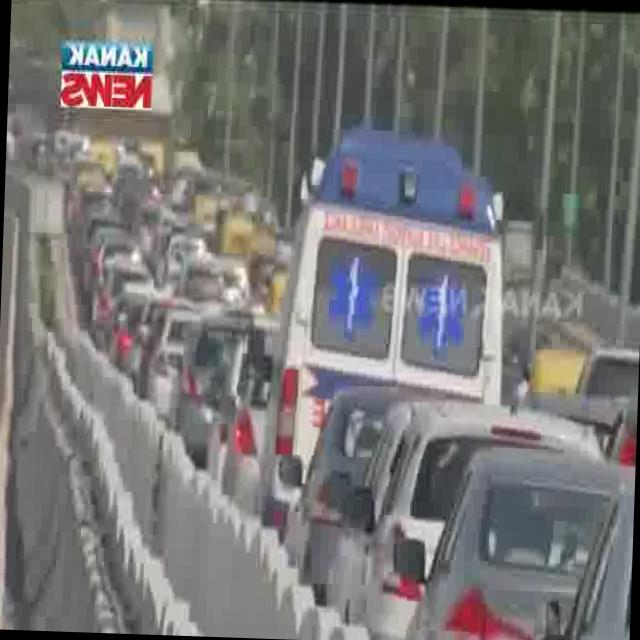ambulance: (294, 118, 515, 387)
